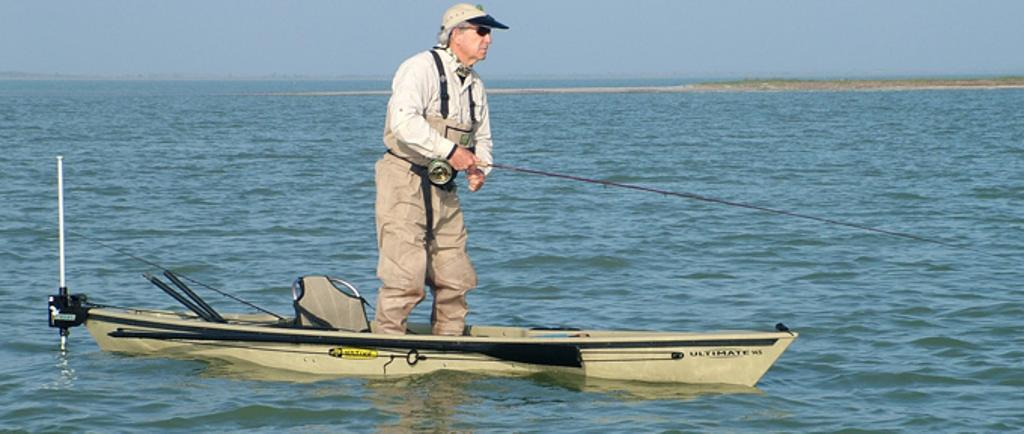face: (459, 19, 492, 60)
